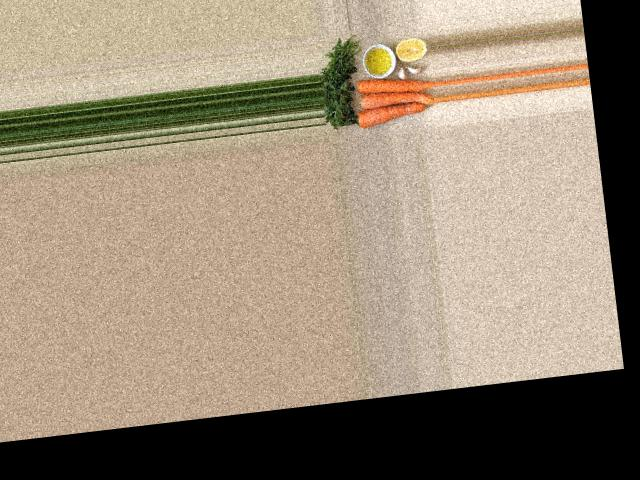carrot: (353, 71, 433, 100)
